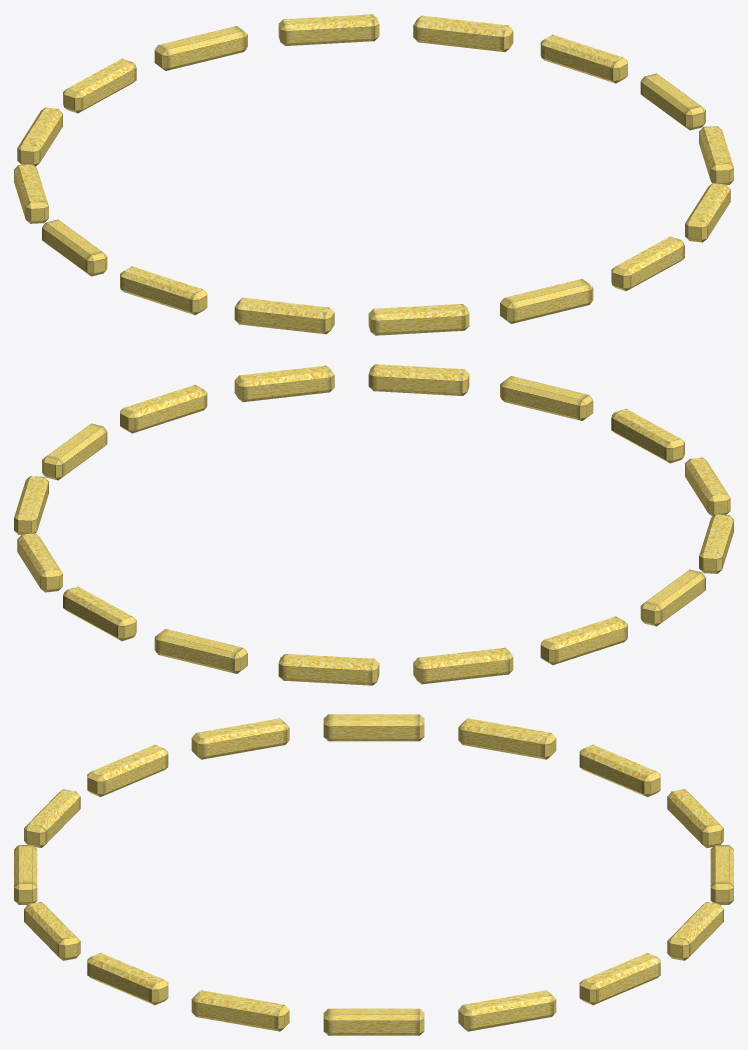
The model's file is env_relic_ring.fbx.
3 renders of one model, top to bottom at view 1: azimuth 30°, elevation 25°; view 2: azimuth 150°, elevation 25°; view 3: azimuth 270°, elevation 25°, orthographic.
Visible parts, largest first — view 1: env_relic_ring; view 2: env_relic_ring; view 3: env_relic_ring.
Part boxes in pixels (x1,y1,x2,y2): env_relic_ring: [14, 14, 733, 335]; env_relic_ring: [14, 364, 733, 685]; env_relic_ring: [14, 714, 733, 1035].
Bounding box in the file's own units: 10.75 × 0.35 × 10.75.
Materials: 1 (1 with a texture image).
